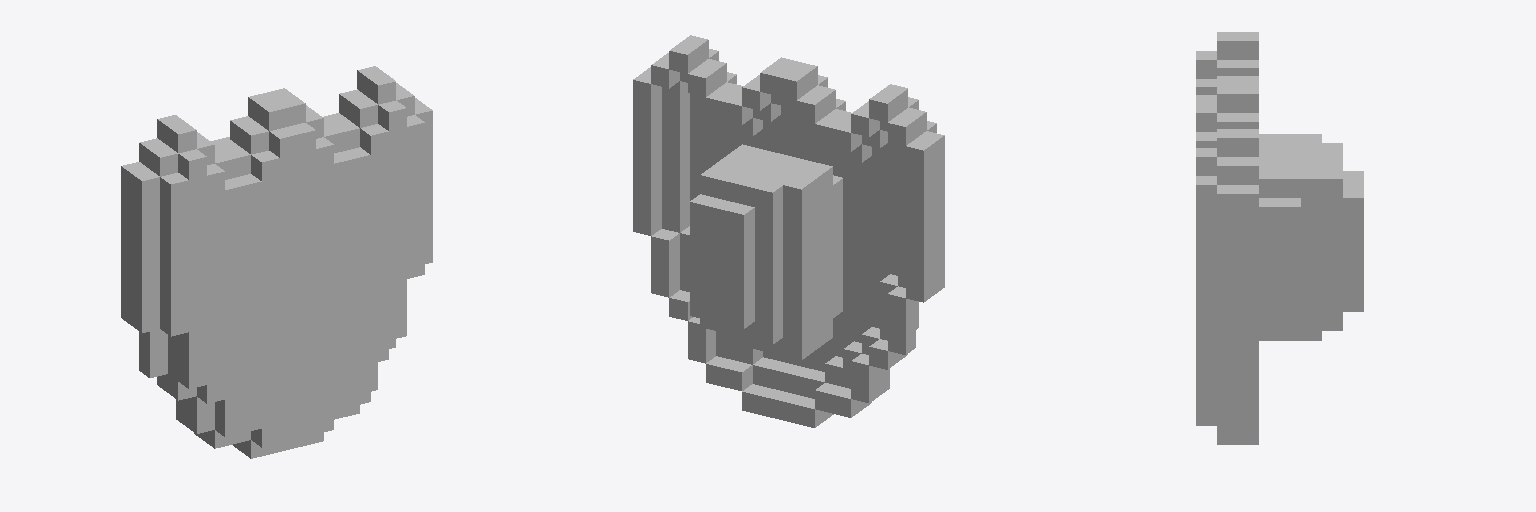
File: cogiendo_mediano.obj
3 renders of one model, left to right at view 1: azimuth 30°, elevation 25°; view 2: azimuth 150°, elevation 25°; view 3: azimuth 270°, elevation 25°, orthographic.
Parts seen in each view (by area): view 1: object 1; view 2: object 1; view 3: object 1.
Boxes of the visible parts, <box> form: object 1: <box>121,66,432,458</box>; object 1: <box>633,35,944,427</box>; object 1: <box>1196,32,1363,444</box>.
Bounding box in the file's own units: 1.6 × 1.8 × 0.8.